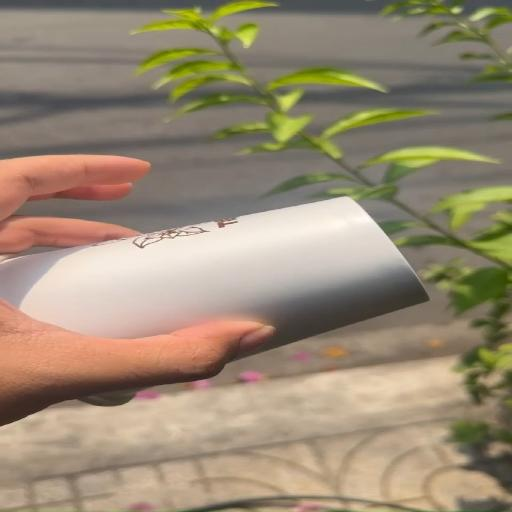Ly_giay: (0, 198, 428, 351)
